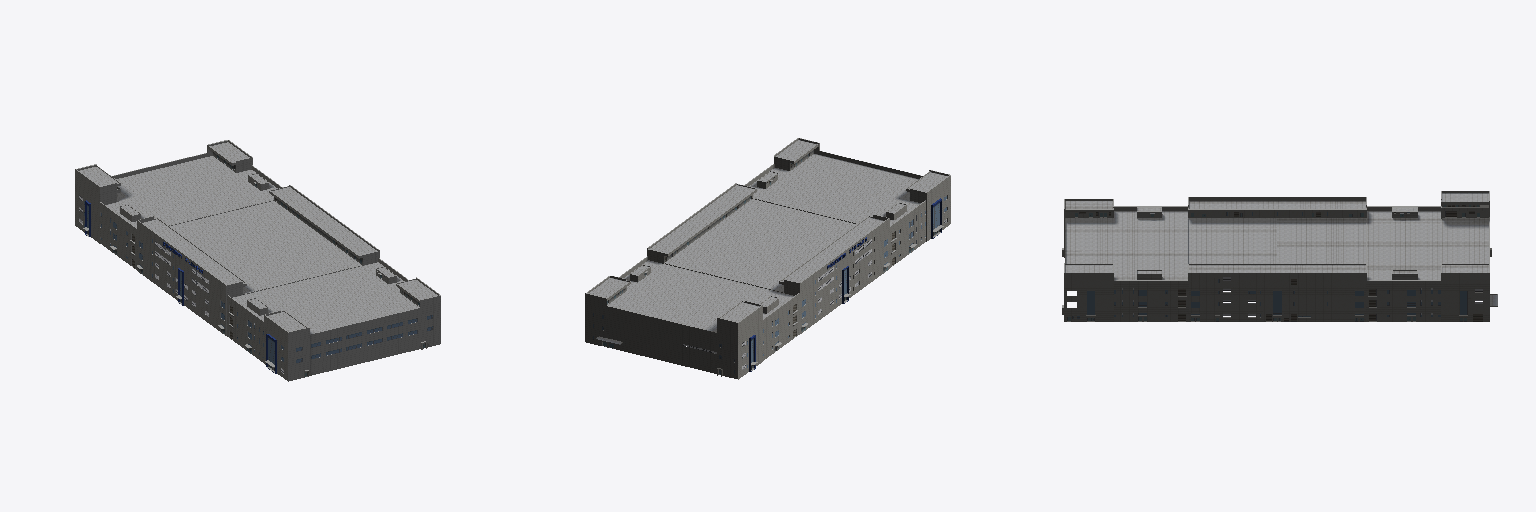
3 renders of one model, left to right at view 1: azimuth 30°, elevation 25°; view 2: azimuth 150°, elevation 25°; view 3: azimuth 270°, elevation 25°, orthographic.
Parts seen in each view (by area): view 1: building_01_02, building_01_01, building_01_glass, building_01_frame; view 2: building_01_02, building_01_01, building_01_frame, building_01_glass; view 3: building_01_02, building_01_01, building_01_glass, building_01_door.
Boxes of the visible parts, x1=… form: building_01_02: x1=80, y1=142, x2=437, y2=334; building_01_01: x1=75, y1=140, x2=440, y2=381; building_01_glass: x1=84, y1=201, x2=432, y2=364; building_01_frame: x1=79, y1=160, x2=432, y2=372; building_01_02: x1=589, y1=140, x2=947, y2=343; building_01_01: x1=585, y1=138, x2=950, y2=379; building_01_frame: x1=593, y1=178, x2=946, y2=369; building_01_glass: x1=593, y1=163, x2=946, y2=373; building_01_02: x1=1065, y1=191, x2=1496, y2=305; building_01_01: x1=1062, y1=191, x2=1497, y2=321; building_01_glass: x1=1073, y1=212, x2=1466, y2=318; building_01_door: x1=1068, y1=205, x2=1482, y2=321.
Bounding box in the file's own units: 938 × 319 × 2219.
Materials: 5 (5 with a texture image).